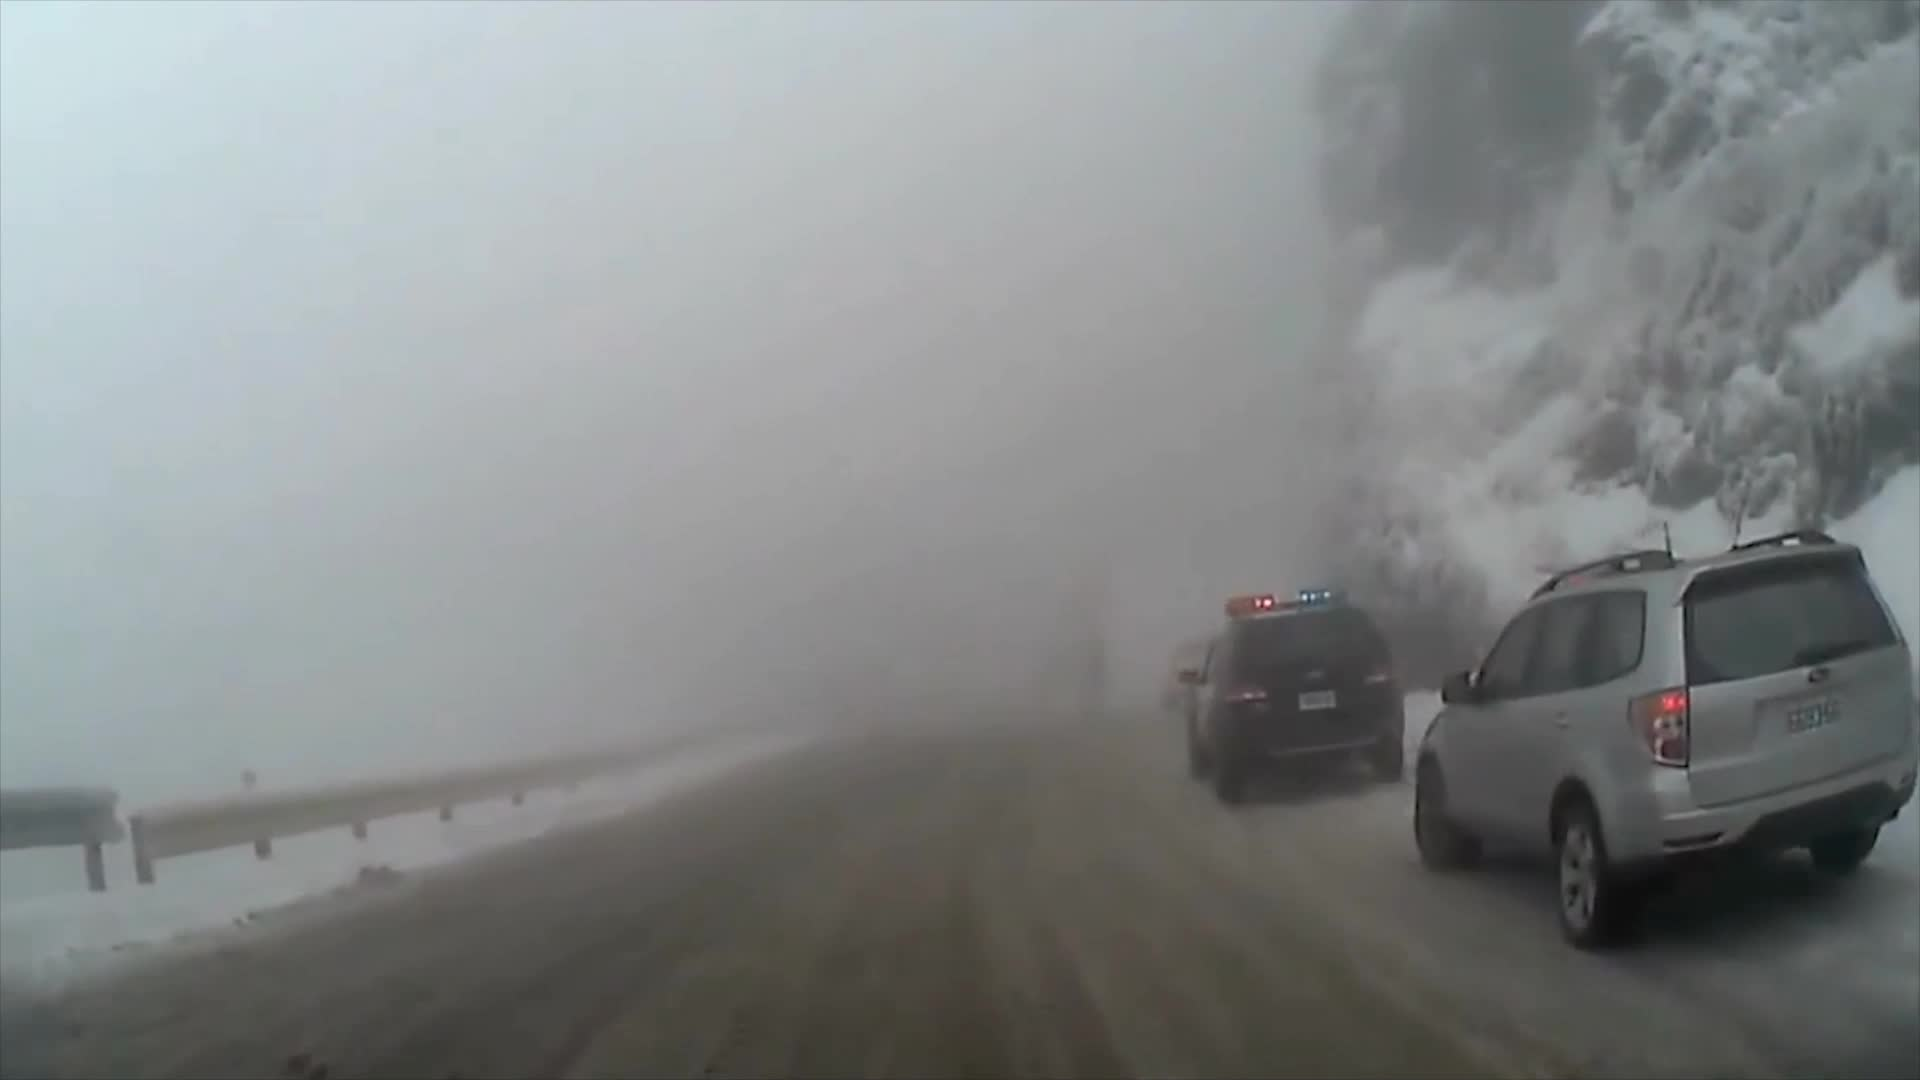vehicle: (1408, 526, 1917, 949), (1176, 584, 1404, 803)
